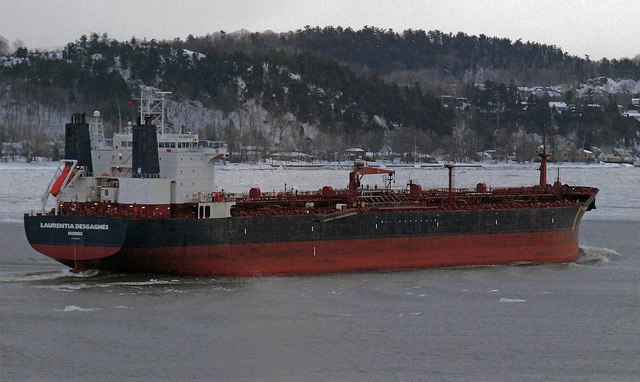tanker: (14, 80, 603, 278)
